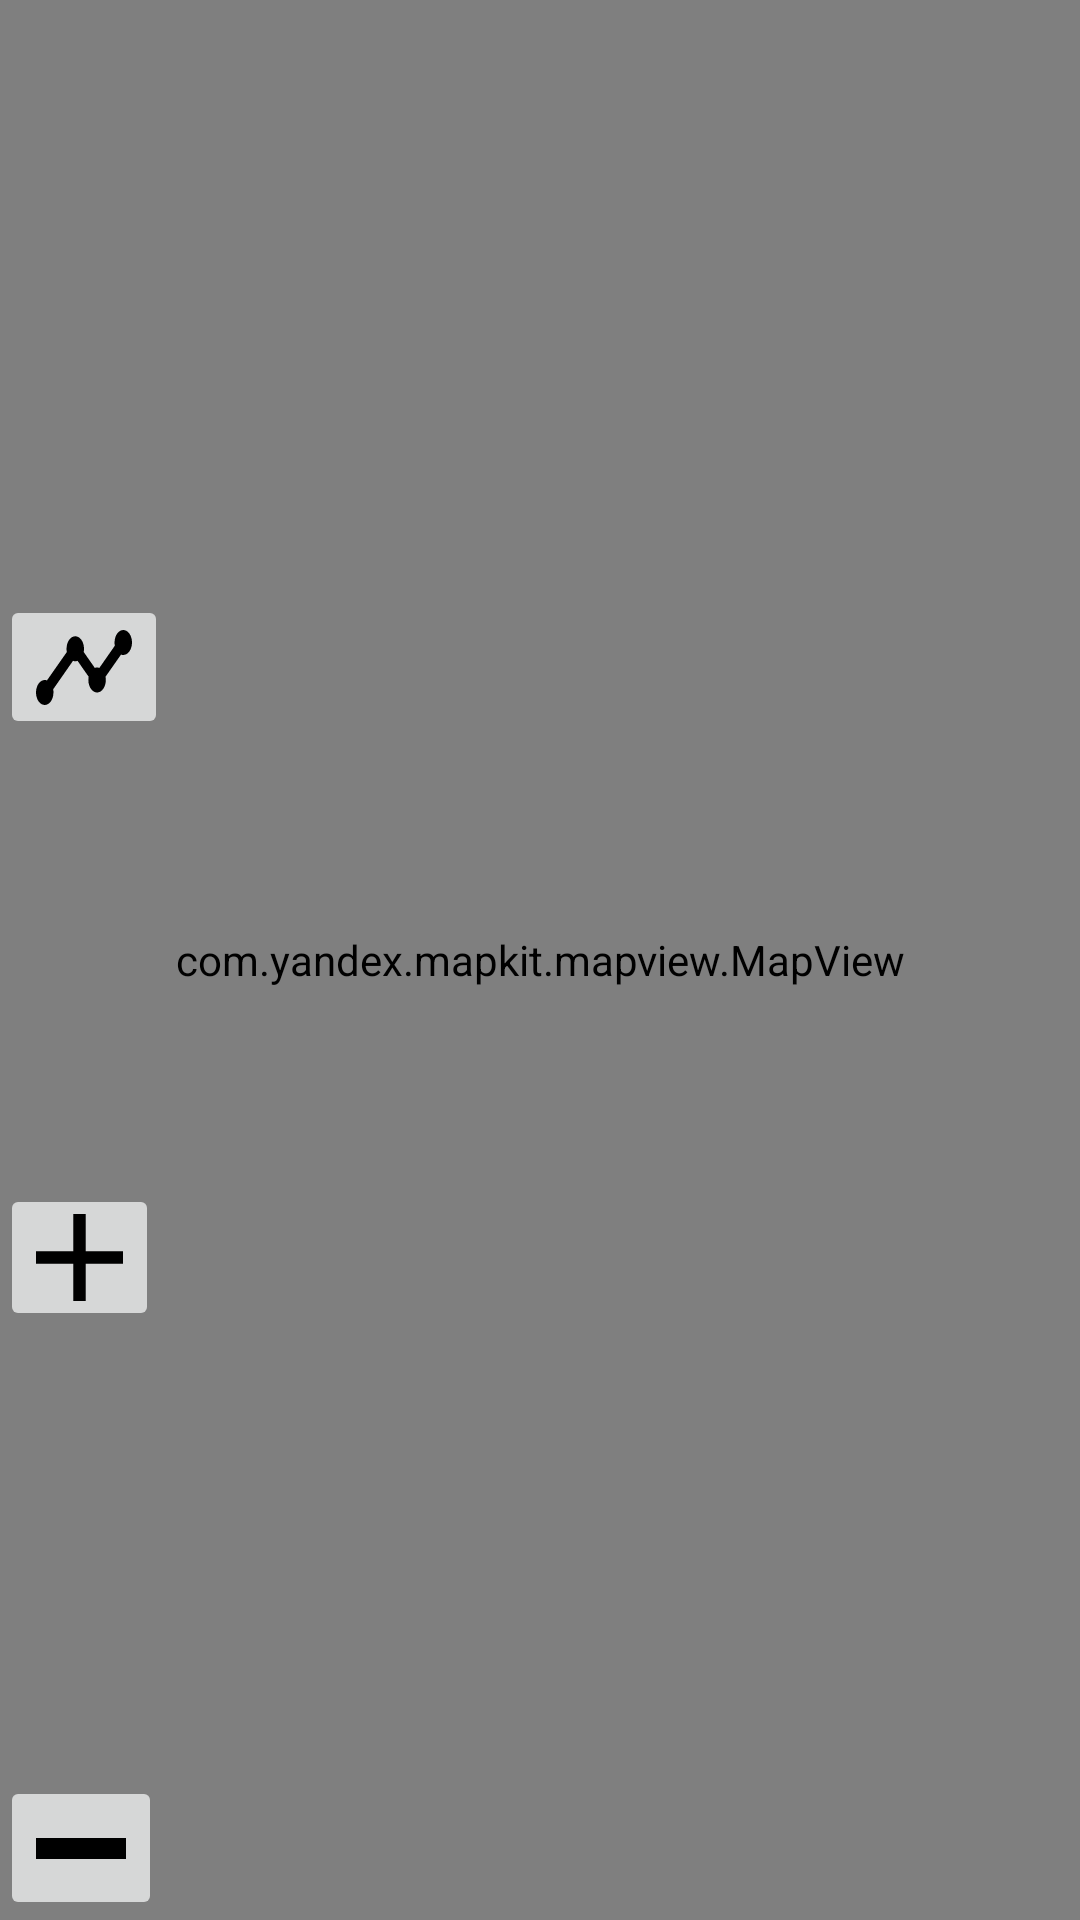

Icons on this 1080*1920 Android screen, each with its box as region(x1, y1, x2, y2):
line point: region(12, 613, 156, 721)
zoom in: region(12, 1202, 147, 1313)
zoom out: region(12, 1794, 150, 1902)
